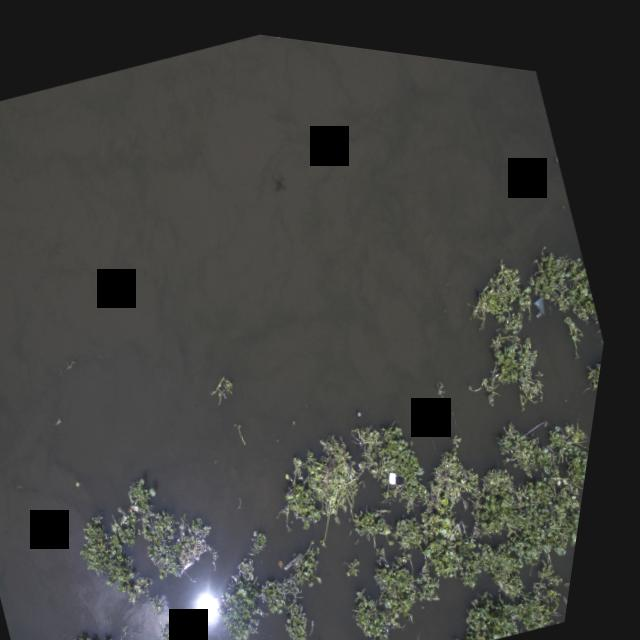plastic: (293, 536, 322, 562), (535, 277, 560, 305), (397, 456, 415, 475), (365, 397, 375, 407)
